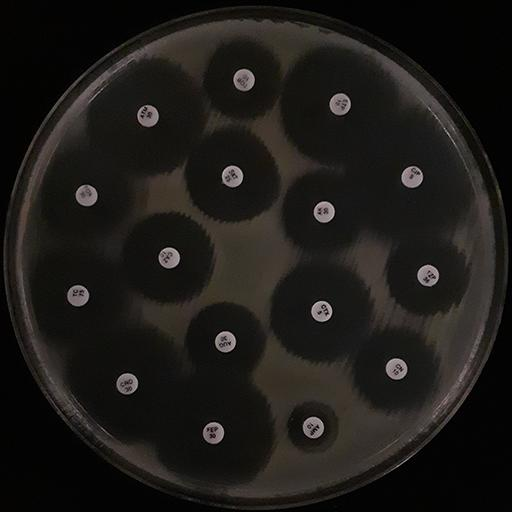disc: (233, 68, 256, 92), (329, 93, 352, 117), (221, 165, 244, 189), (136, 104, 159, 128), (66, 284, 90, 307), (214, 330, 237, 354), (202, 421, 225, 445), (302, 416, 325, 440), (401, 166, 424, 189), (313, 201, 336, 224), (75, 184, 98, 207), (116, 373, 139, 396), (310, 300, 333, 323), (385, 358, 408, 381), (417, 265, 440, 288), (158, 247, 181, 269)
